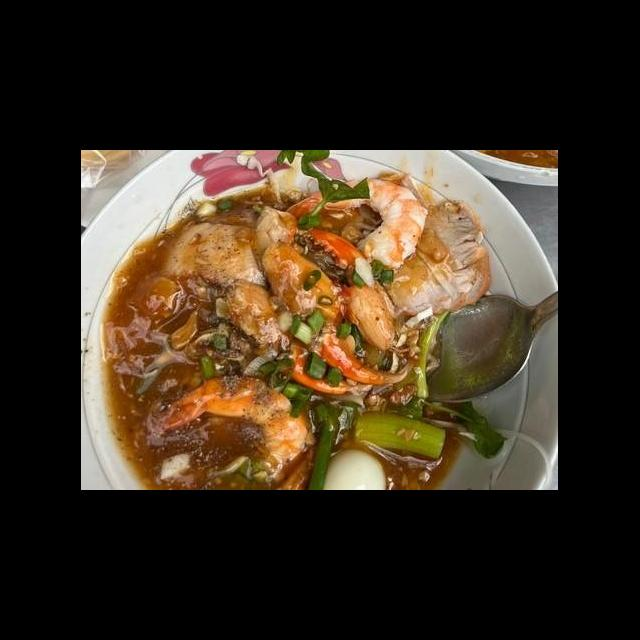thit heo: (351, 195, 498, 324), (156, 200, 302, 295)
tom: (156, 368, 316, 489), (276, 173, 432, 274)
trung: (316, 445, 392, 490)
